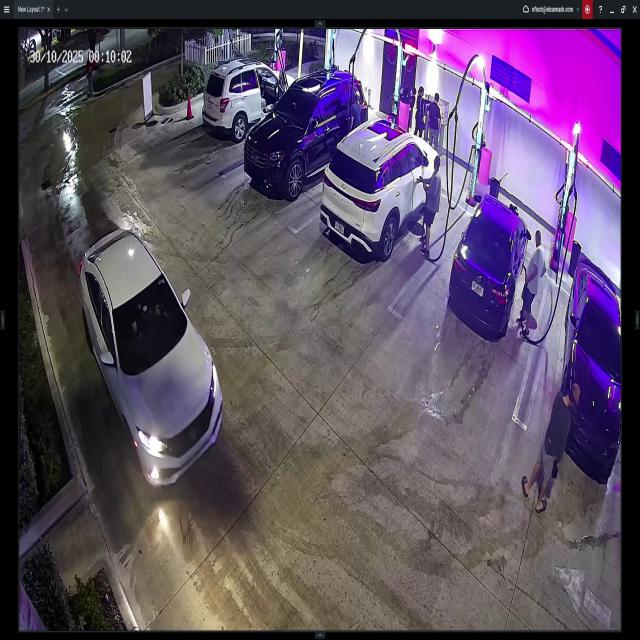Car: (81, 230, 224, 486), (319, 119, 437, 256), (246, 69, 366, 192), (564, 256, 620, 478), (450, 195, 530, 336), (202, 61, 300, 136)
